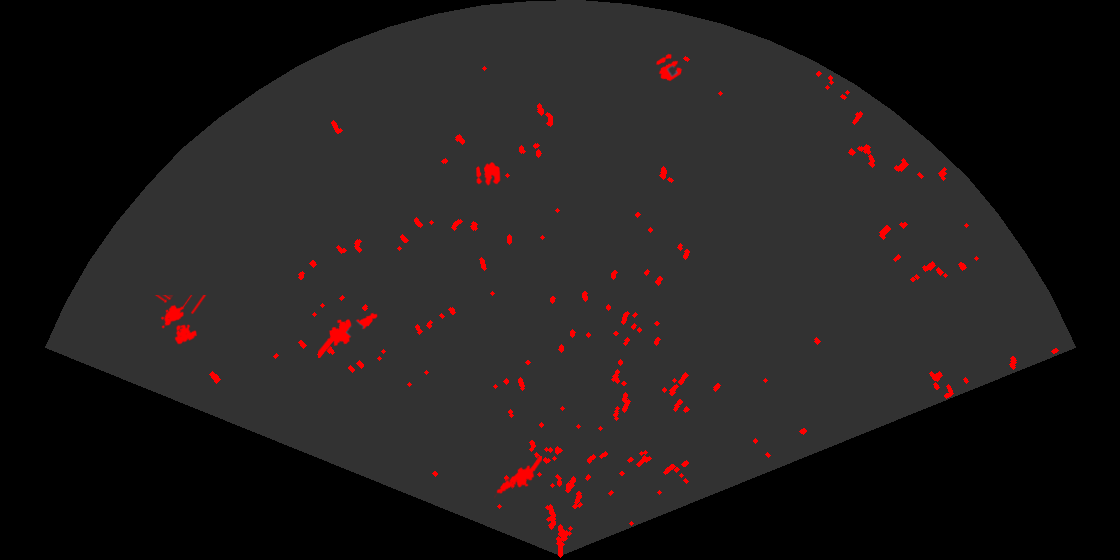ball: (655, 52, 684, 83), (474, 161, 502, 187)
cage: (153, 295, 208, 346)
frogman: (318, 311, 379, 358), (494, 456, 542, 500)
